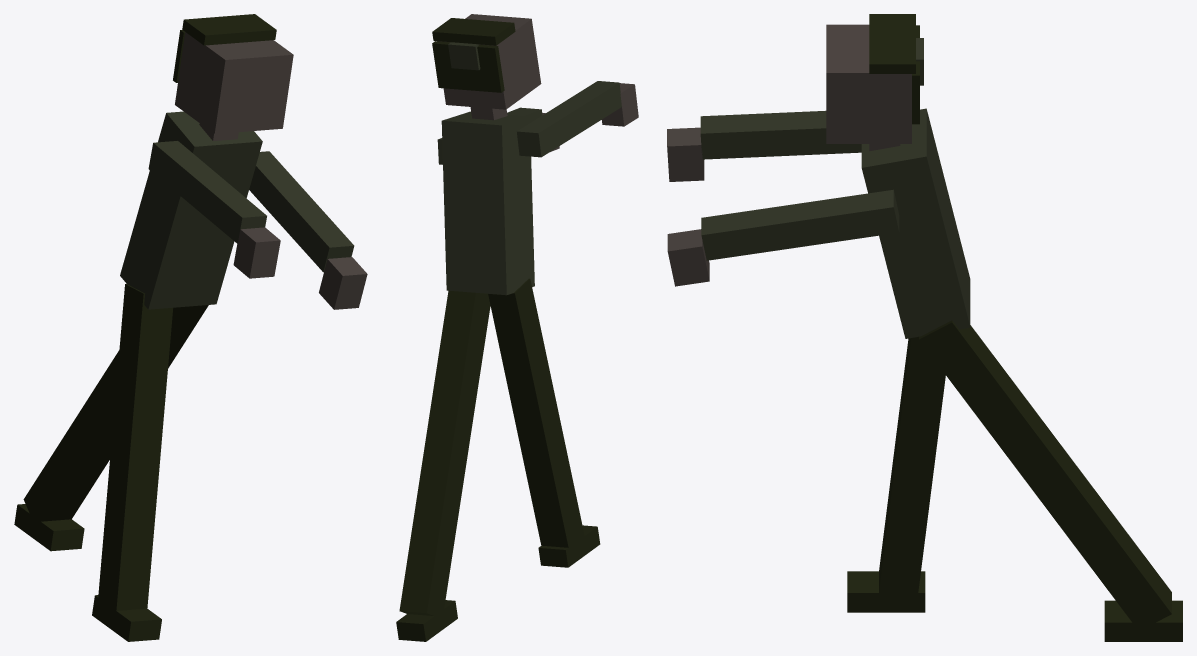
File: SM_ZombiFino_v12_Cojo_LOD0.fbx
3 views of the same model, side by side, from view 1: azimuth 30°, elevation 25°; view 2: azimuth 150°, elevation 25°; view 3: azimuth 270°, elevation 25° (orthographic). The views are drawn at different scales.
Visible parts, largest first — view 1: SM_zombi_fino_v12_LOD0; view 2: SM_zombi_fino_v12_LOD0; view 3: SM_zombi_fino_v12_LOD0.
Boxes of the visible parts, box(x1,y1,x2,y2) form: SM_zombi_fino_v12_LOD0: box(14, 14, 367, 641); SM_zombi_fino_v12_LOD0: box(396, 14, 638, 641); SM_zombi_fino_v12_LOD0: box(667, 14, 1182, 641).
Size of the model in its own units: 0.5186 by 1.79 by 1.32.
